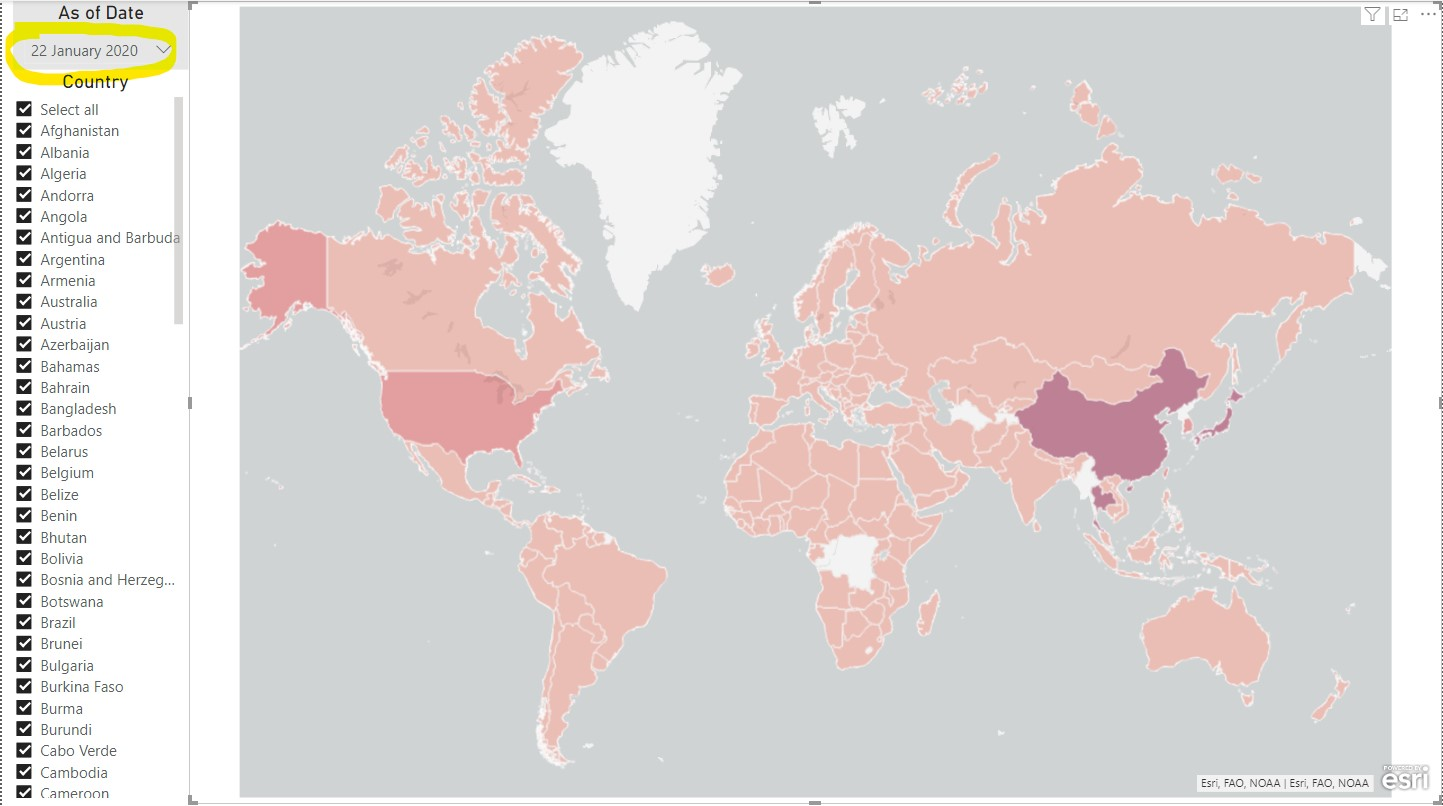

Layout of this report page (visuals, bound fields, positions):
{"tool":"powerbi","page":{"name":"Page 1","canvas":[1280,720],"ordinal":0},"visuals":[{"type":"slicer","title":"As of Date","fields":{"Values":["covid_ts_global.date"]},"box":[9.7,0,156.5,61.2],"z":0},{"type":"slicer","title":"Country","fields":{"Values":["covid_ts_global.country_region"]},"box":[0,61.2,166.2,652.1],"z":1000},{"type":"esriVisual","fields":{"Location":["covid_ts_global.country_region"],"Color":["Sum(covid_ts_global.cumulative_count)"]},"box":[166.2,0,1113.8,713.4],"z":2000}]}

Visuals, with their boxes in screenshot pixels (x1, y1, x2, y2), scaled from the page's 1280x720 canvas onto the 1443x806 screenshot:
"As of Date" slicer: [left=11, top=0, right=187, bottom=69]
"Country" slicer: [left=0, top=69, right=187, bottom=798]
esriVisual - covid_ts_global.country_region x Sum(covid_ts_global.cumulative_count): [left=187, top=0, right=1442, bottom=799]
